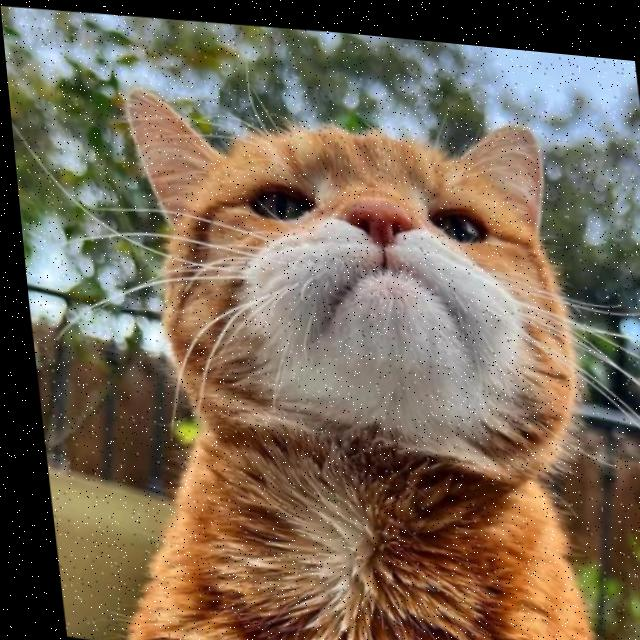Cats: (41, 22, 637, 640)
